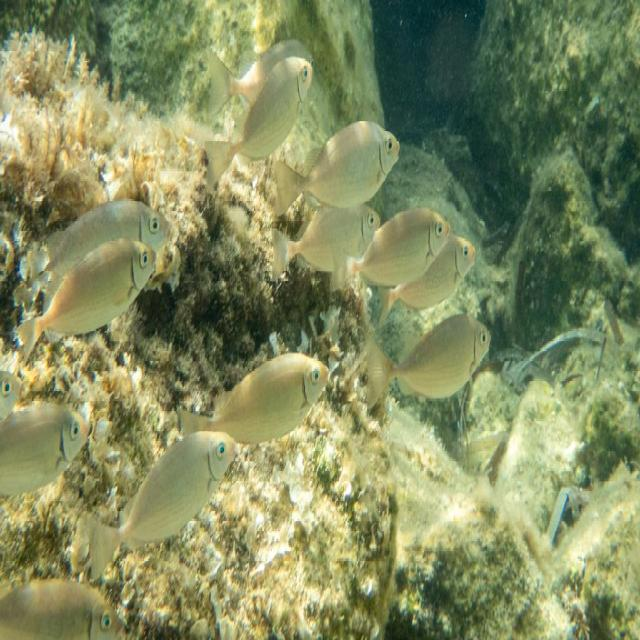Sokar Baligi: (12, 238, 162, 370), (358, 302, 502, 424), (173, 344, 336, 448), (270, 101, 402, 223)
